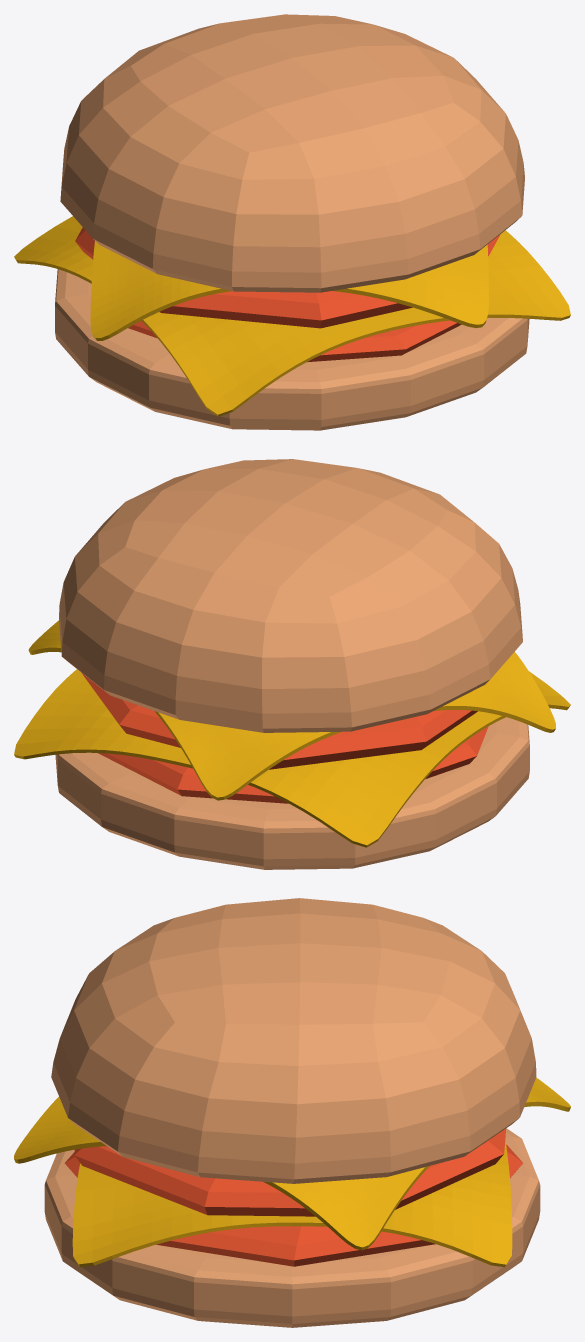
File: hamburget.glb
The picture shows the model from 3 angles, top to bottom: view 1: azimuth 30°, elevation 25°; view 2: azimuth 150°, elevation 25°; view 3: azimuth 270°, elevation 25°; orthographic projection. The views are drawn at different scales.
Visible parts, largest first — view 1: Cube.002, Cube, Plane, Plane.001, Cube.003, Cube.001; view 2: Cube.002, Cube, Plane, Plane.001, Cube.003, Cube.001; view 3: Cube.002, Cube, Plane, Plane.001, Cube.003, Cube.001.
Boxes of the visible parts, bbox=[...] form: Cube.002: bbox=[60, 14, 524, 292]; Cube: bbox=[55, 269, 529, 430]; Plane: bbox=[14, 216, 570, 416]; Plane.001: bbox=[90, 241, 488, 340]; Cube.003: bbox=[75, 227, 500, 328]; Cube.001: bbox=[128, 320, 461, 362]; Cube.002: bbox=[59, 459, 522, 732]; Cube: bbox=[55, 717, 529, 869]; Plane: bbox=[14, 669, 570, 847]; Plane.001: bbox=[28, 620, 555, 800]; Cube.003: bbox=[81, 672, 477, 769]; Cube.001: bbox=[98, 726, 488, 803]; Cube.002: bbox=[51, 898, 536, 1183]; Cube: bbox=[44, 1128, 540, 1327]; Plane: bbox=[72, 1135, 512, 1267]; Plane.001: bbox=[14, 1077, 570, 1250]; Cube.003: bbox=[74, 1128, 506, 1216]; Cube.001: bbox=[64, 1144, 522, 1266].
Bounding box in the file's own units: 2.06 × 1.23 × 2.06.
